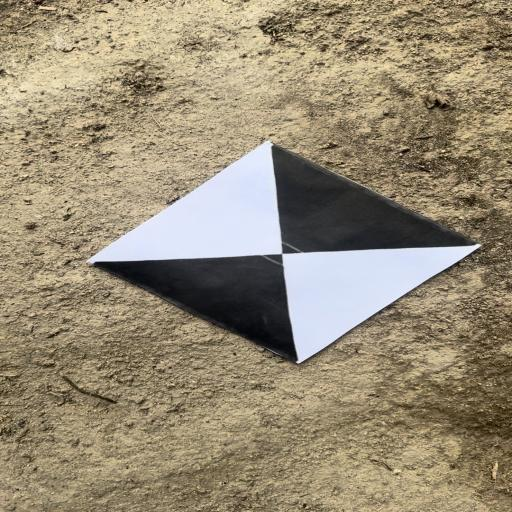target: (90, 140, 481, 366)
